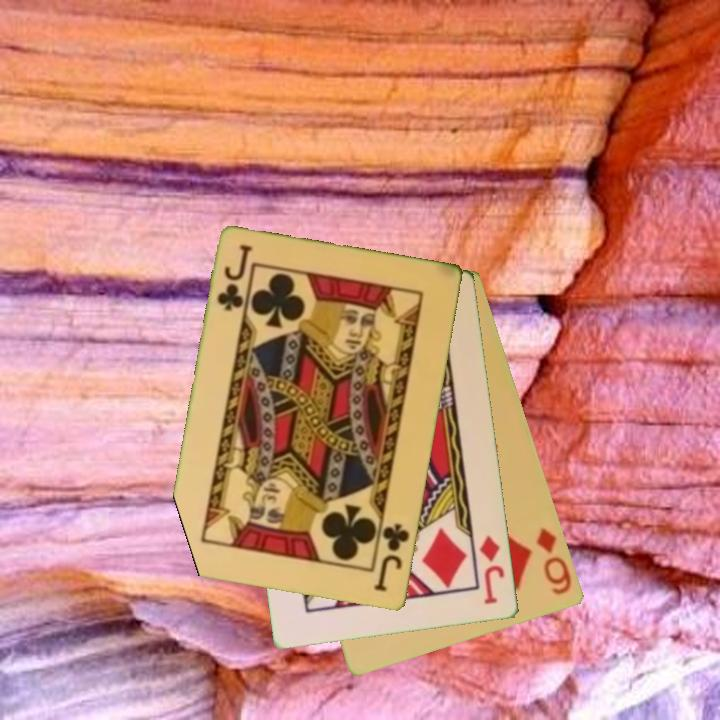6d: (533, 524, 575, 598)
Jc: (371, 520, 413, 595), (214, 241, 255, 315)
Jd: (476, 531, 508, 608)
